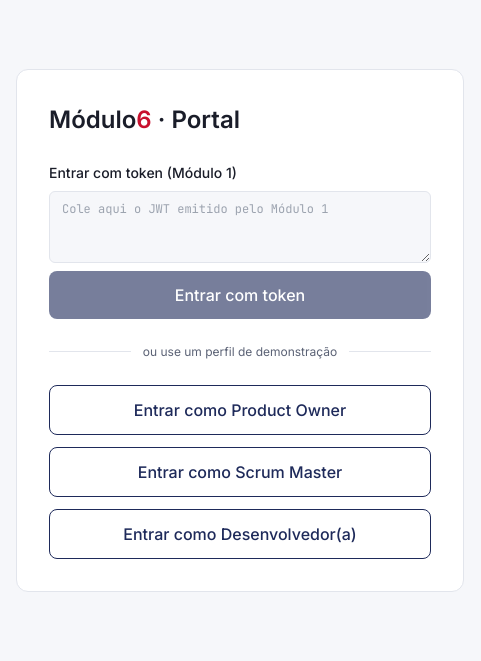
Test case: LoginScreen › orienta quando o login de demonstração não está disponível
Click the button "Entrar como Desenvolvedor(a)". click: (240, 534)
box: [49,508,431,558]
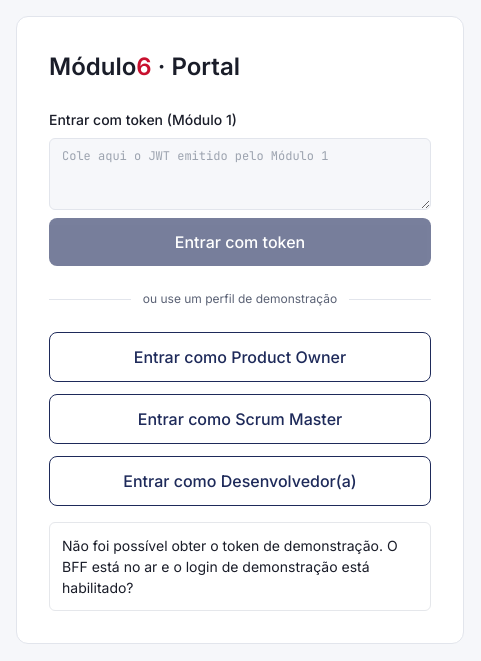
Expected: the message shows "login de demonstração", [62,537,398,596]
